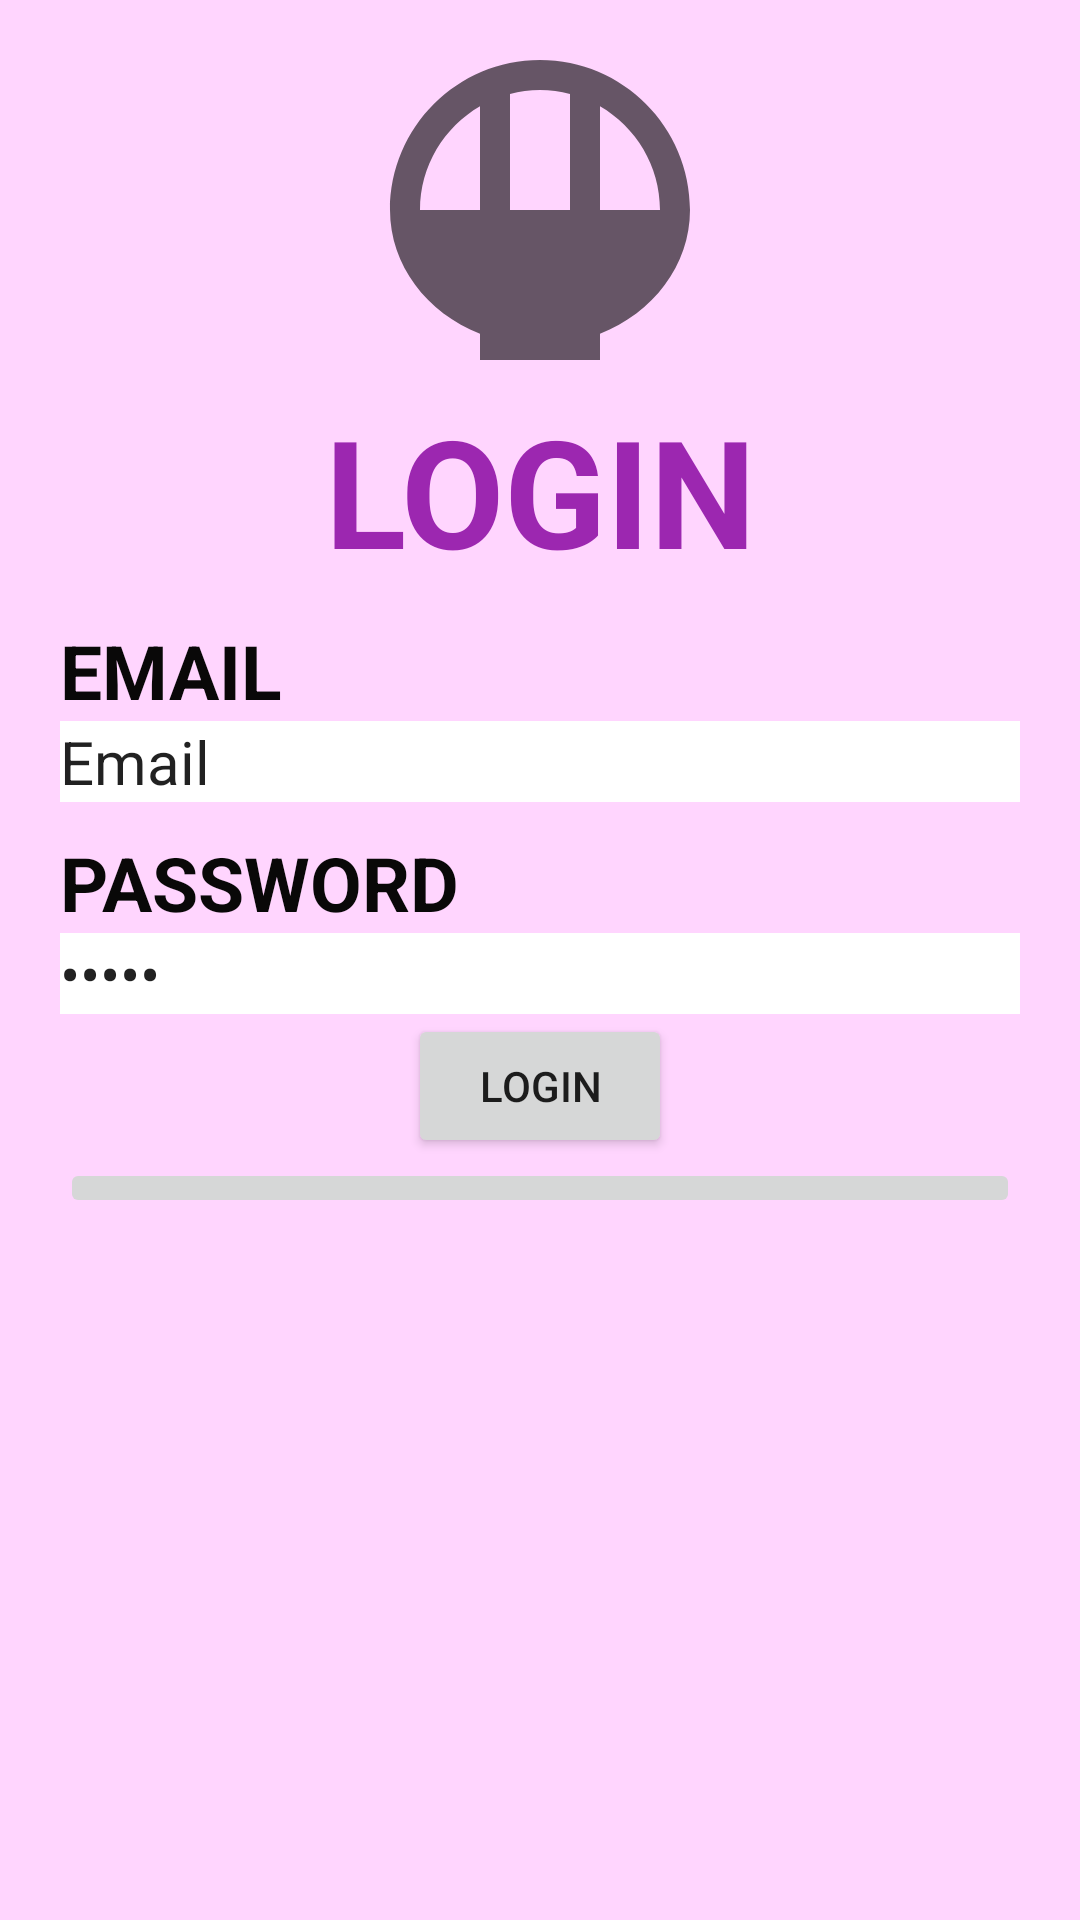

Where to tap for icons on this 1080px×1920px app screen, as [x,y]:
rice bowl: [540,210]
